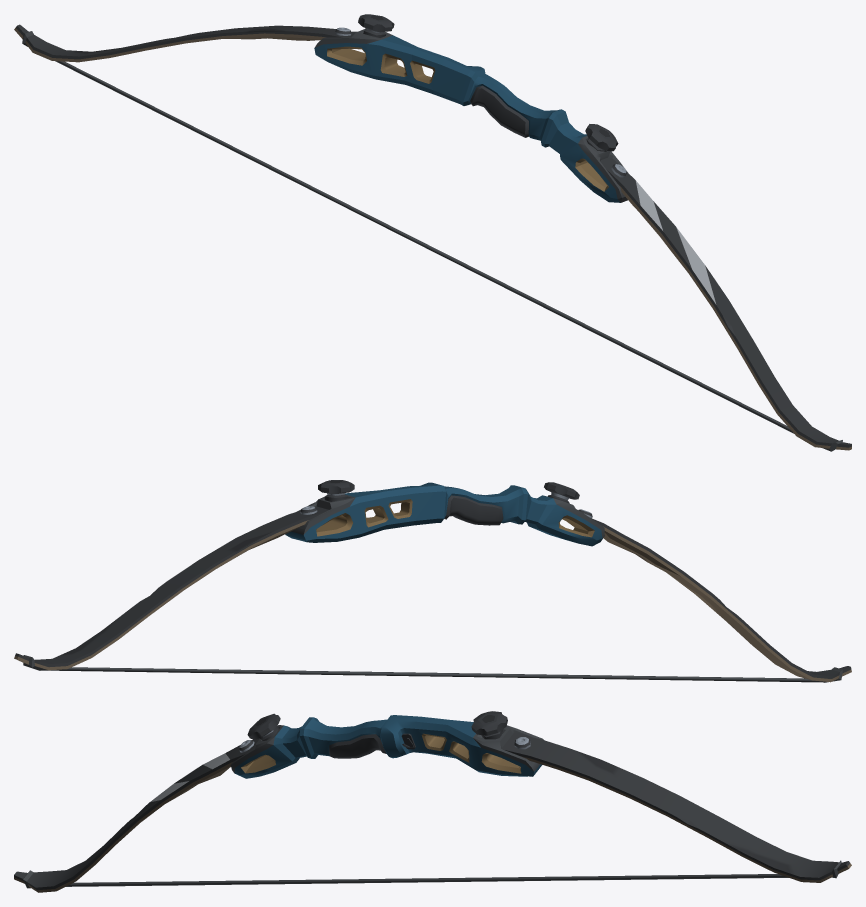
File: bw-recurve-02.glb
The picture shows the model from 3 angles, top to bottom: view 1: azimuth 90°, elevation 25°; view 2: azimuth 150°, elevation 25°; view 3: azimuth 270°, elevation 25°; orthographic projection.
Visible parts, largest first — view 1: bw-recurve-02; view 2: bw-recurve-02; view 3: bw-recurve-02.
Part boxes in pixels (<box>): bw-recurve-02: <box>14,14,851,451</box>; bw-recurve-02: <box>14,480,851,682</box>; bw-recurve-02: <box>14,711,851,892</box>.
Size of the model in its own units: 0.7769 by 0.5288 by 1.33.
1 material, 1 textured.
